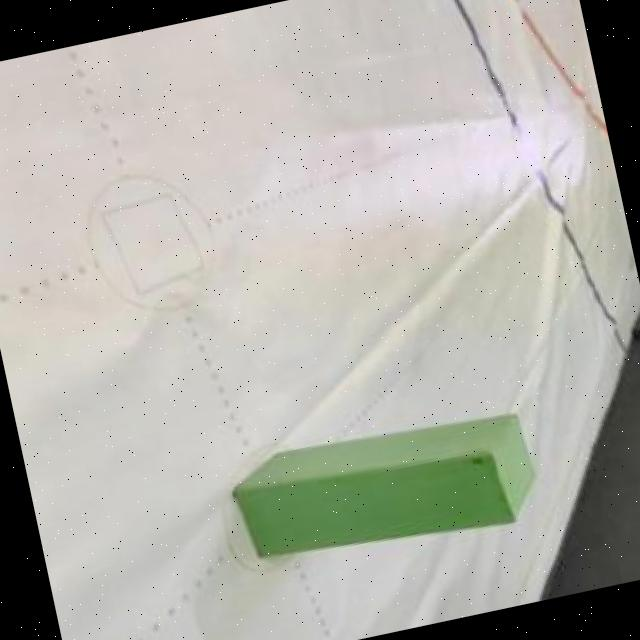greenbox: (220, 398, 550, 583)
